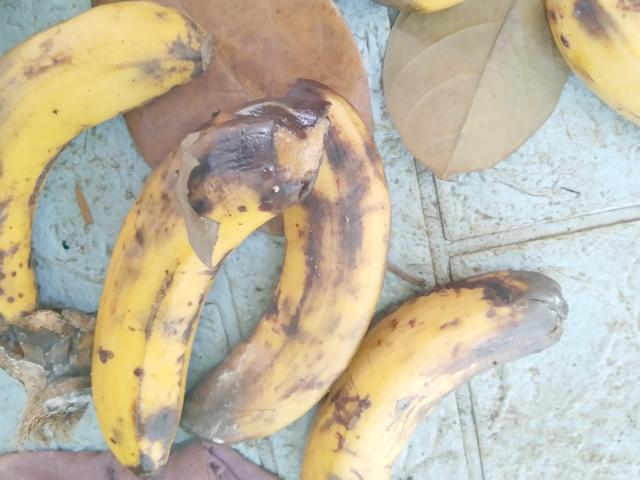overripe: (0, 6, 219, 342), (295, 257, 588, 479), (445, 404, 446, 406)
rotten: (70, 87, 314, 479), (187, 83, 402, 443), (530, 0, 639, 131)
